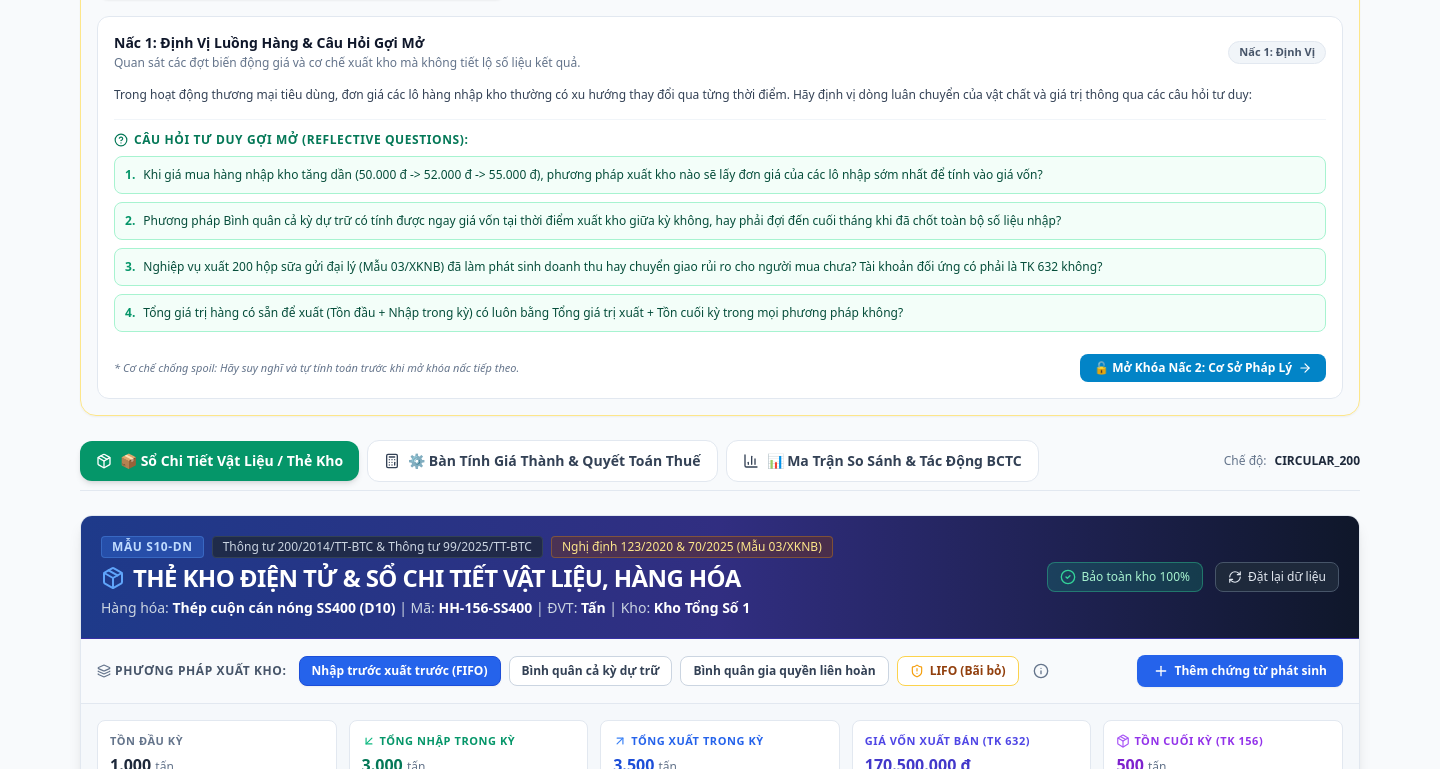
Scenario: COGS & Cost Accounting Workbench Container & Shell Integration (CogsWorkbench.tsx) › T5.5: Unlocks 3-level Socratic hint ladder progressively without spoilers
The width and height of the screenshot is (1440, 769).
(page scrolled)
Expected: the element with test id "hint-content-level-1" is shown, [97,16,1343,399]
Expected: the text "Câu Hỏi Tư Duy Gợi Mở (Reflective Questions):" is shown, [134,132,468,148]
Click the button with test id "unlock-level-2-btn": (1203, 368) [1080,354,1326,382]
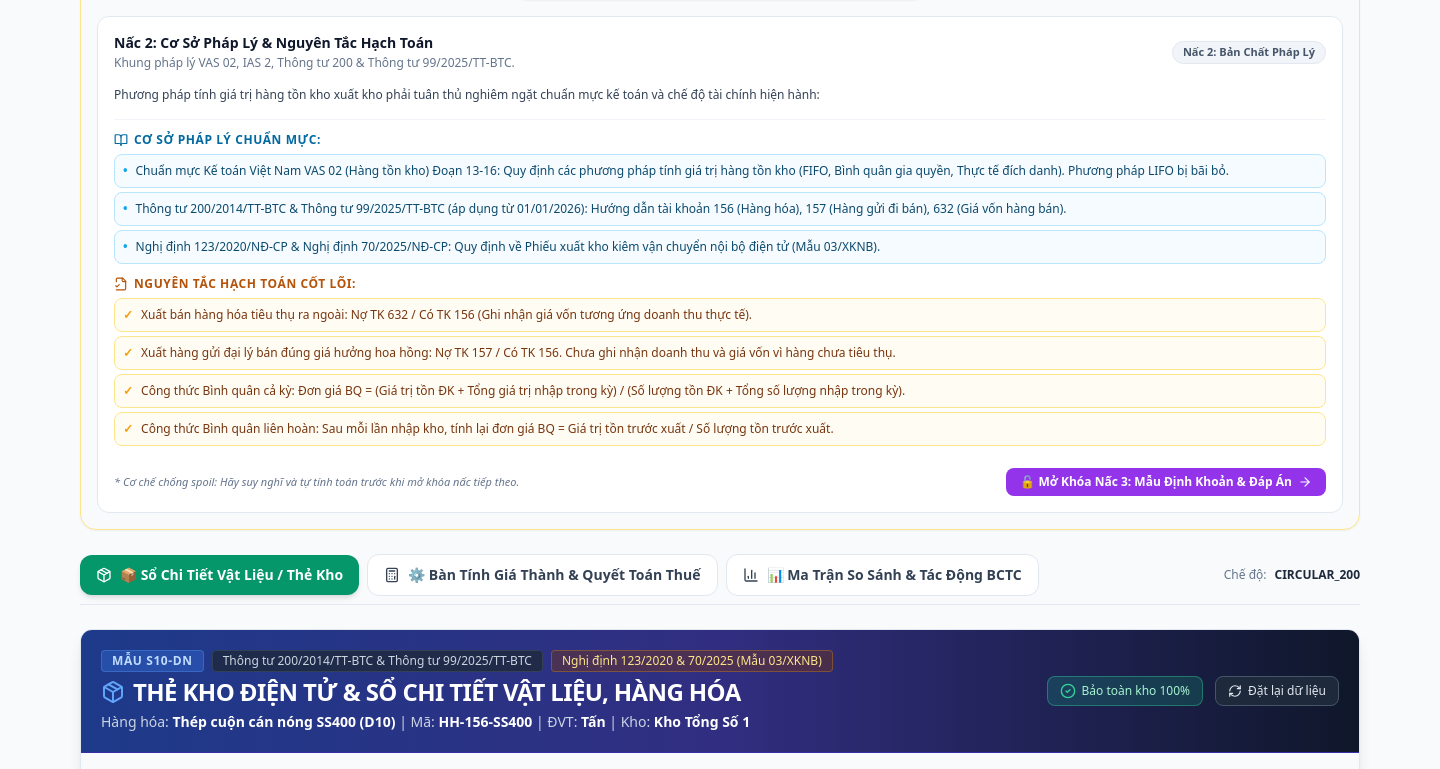
Now the element with test id "hint-content-level-2" is shown, box [97,16,1343,513]
Now the text "Cơ Sở Pháp Lý Chuẩn Mực:" is shown, box [134,132,321,148]
Now the text "Nguyên Tắc Hạch Toán Cốt Lõi:" is shown, box [134,276,356,292]
Click the button with test id "unlock-level-3-btn": (1166, 482) [1006,468,1326,496]
(page scrolled)
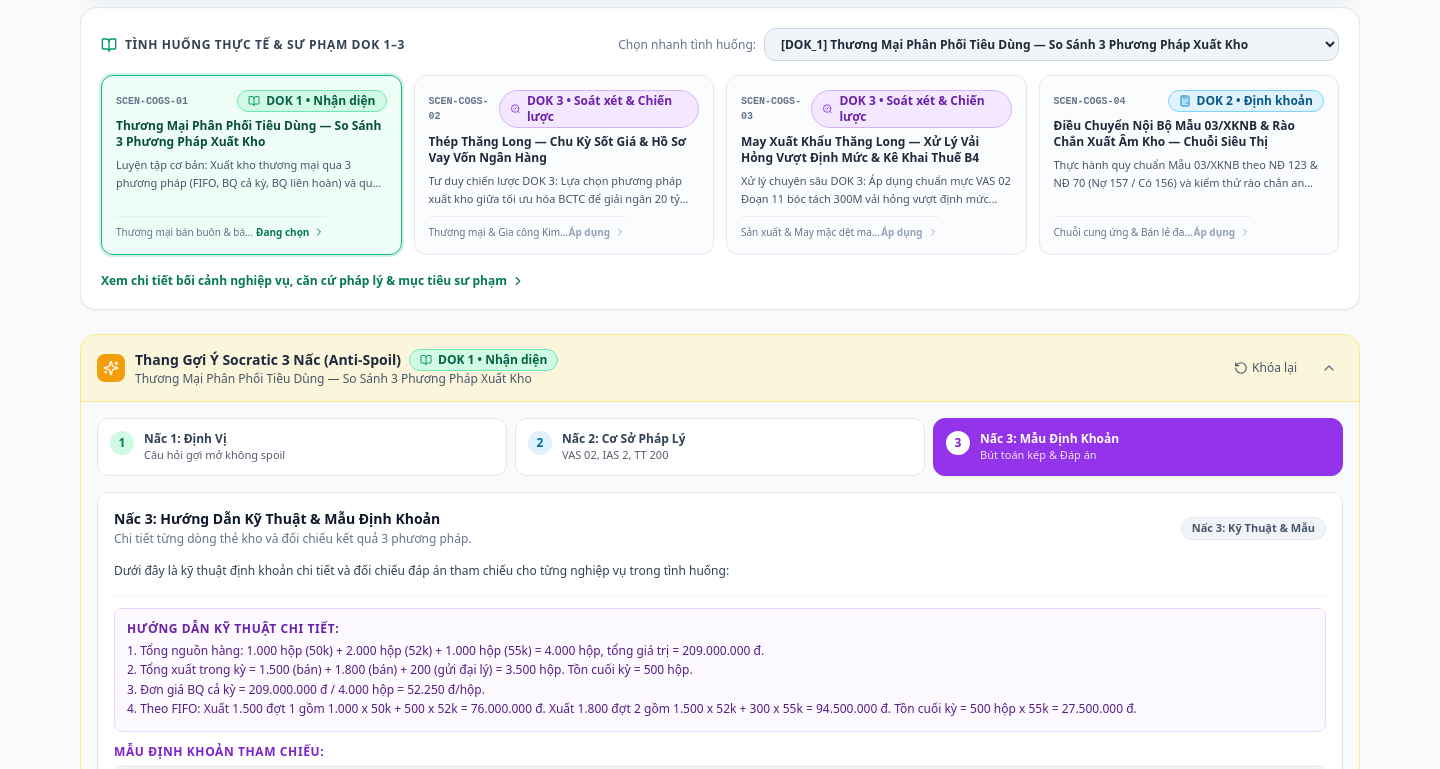
Now the text "Mẫu Định Khoản Tham Chiếu:" is shown, box [114,743,324,760]
Click the button with test id "reset-socratic-ladder-btn": (1266, 368) [1224,356,1307,380]
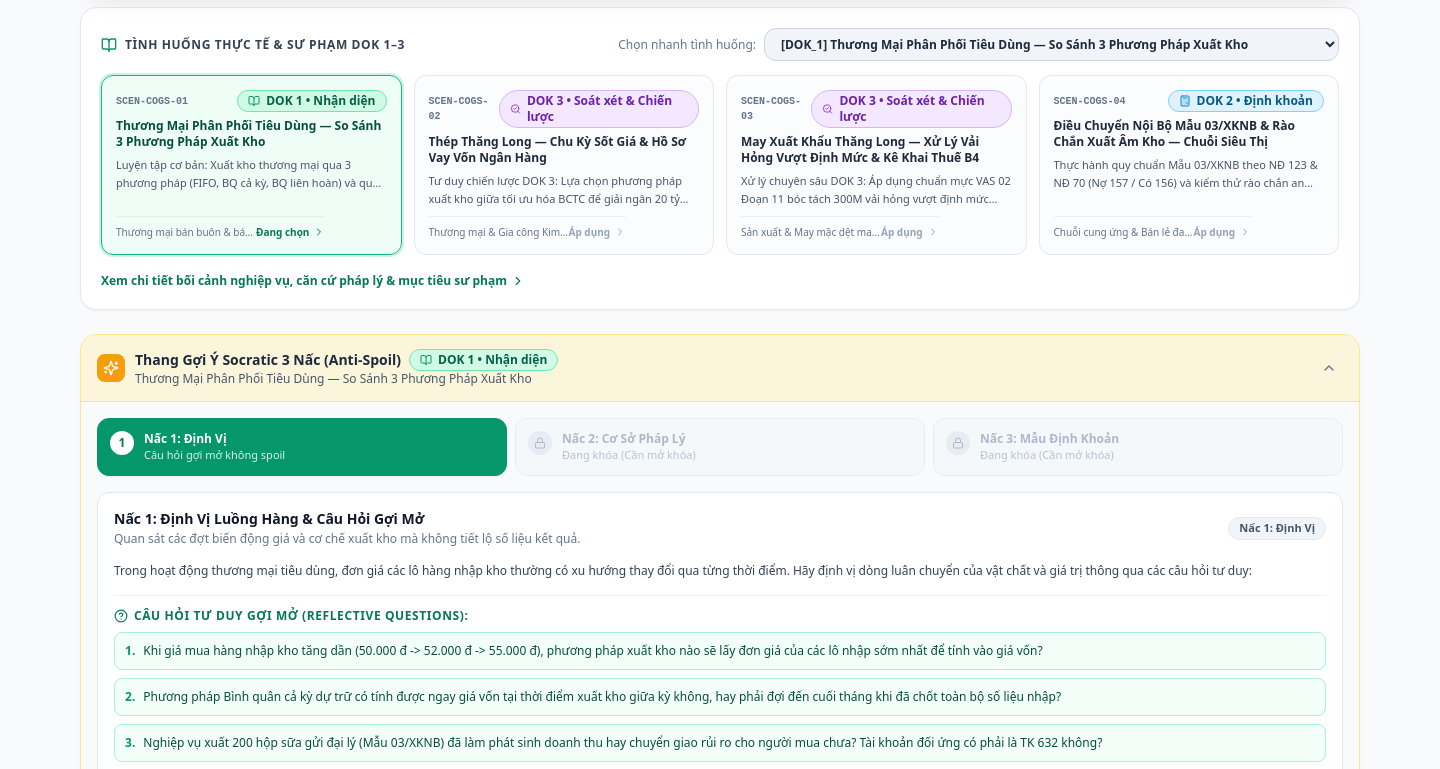
Now the button with test id "tab-hint-level-2" is disabled, box [515,418,925,476]
Now the button with test id "tab-hint-level-3" is disabled, box [933,418,1343,476]
